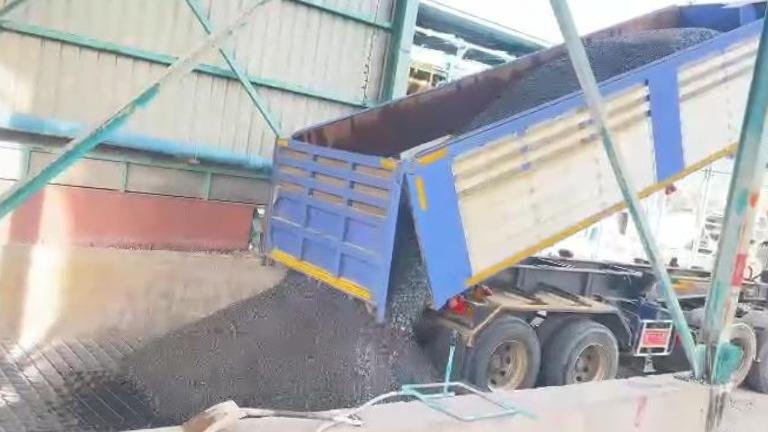gravel: (125, 194, 436, 421), (461, 54, 577, 132), (583, 28, 719, 81)
